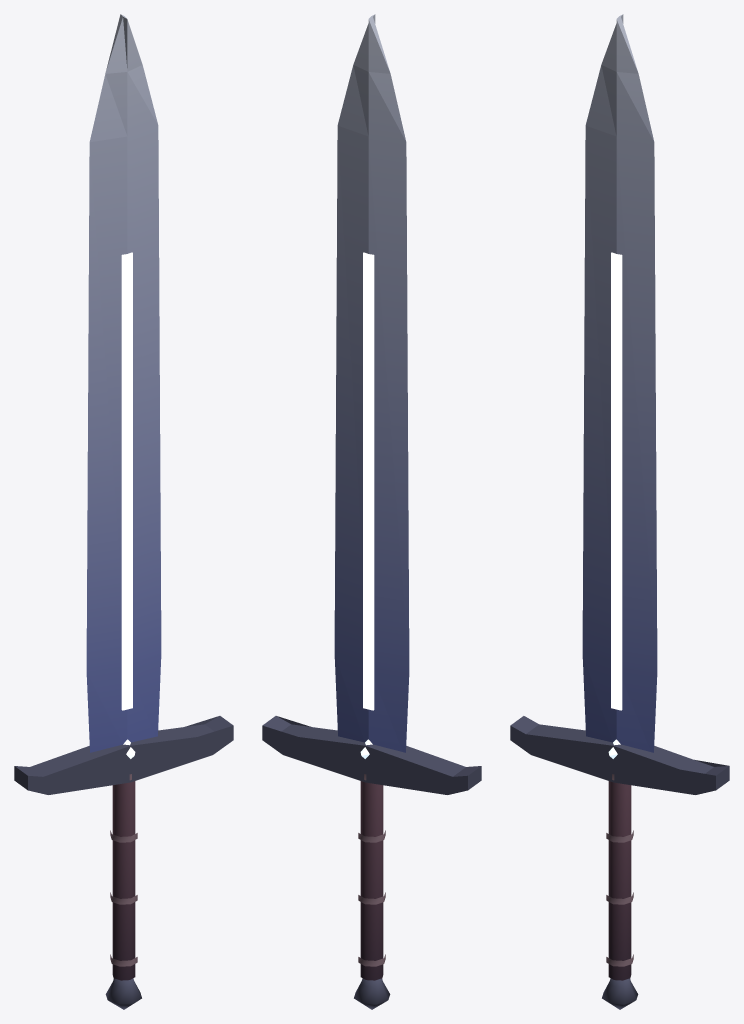
File: claymore_storm.glb
3 renders of one model, left to right at view 1: azimuth 30°, elevation 25°; view 2: azimuth 150°, elevation 25°; view 3: azimuth 330°, elevation 25°, orthographic.
Visible parts, largest first — view 1: claymore_storm; view 2: claymore_storm; view 3: claymore_storm.
Part boxes in pixels (x1,y1,x2,y2): claymore_storm: [14, 14, 233, 1009]; claymore_storm: [262, 14, 481, 1009]; claymore_storm: [510, 14, 729, 1009].
Size of the model in its own units: 0.44 by 2.03 by 0.0784.
